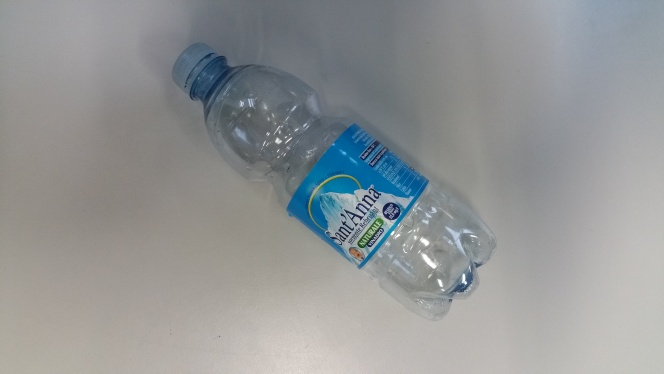bottle: (169, 36, 498, 320)
